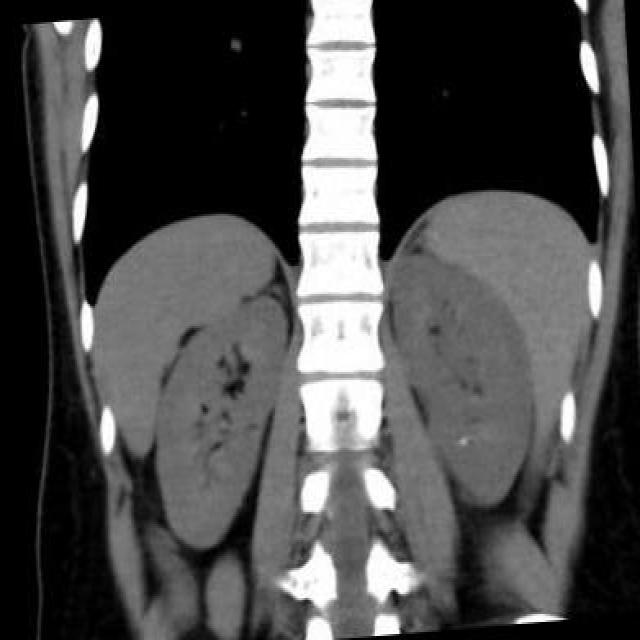Tas_Var: (456, 432, 470, 450)
